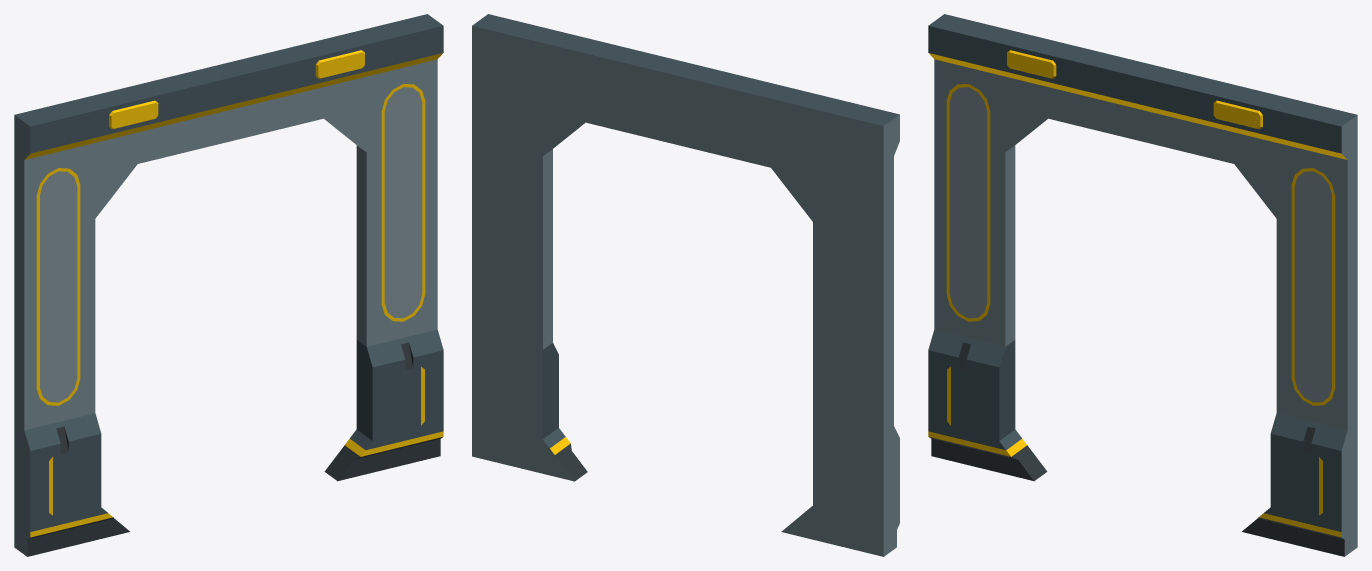
The model's file is Wall_type_C_055.fbx.
3 views of the same model, side by side, from view 1: azimuth 30°, elevation 25°; view 2: azimuth 150°, elevation 25°; view 3: azimuth 330°, elevation 25° (orthographic).
Visible parts, largest first — view 1: Wall_type_C_055; view 2: Wall_type_C_055; view 3: Wall_type_C_055.
Boxes of the visible parts, x1=… form: Wall_type_C_055: x1=14, y1=14, x2=443, y2=556; Wall_type_C_055: x1=472, y1=14, x2=899, y2=556; Wall_type_C_055: x1=928, y1=14, x2=1357, y2=556.
Bounding box in the file's own units: 400 × 28.98 × 400.
